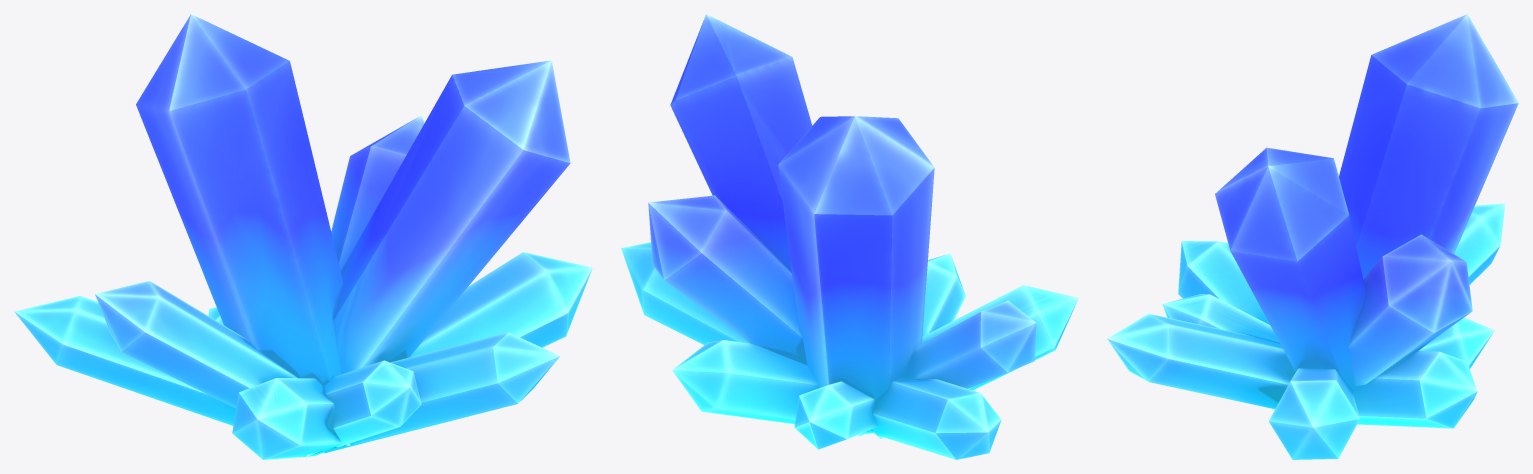
The model's file is crystal.glb.
3 renders of one model, left to right at view 1: azimuth 30°, elevation 25°; view 2: azimuth 150°, elevation 25°; view 3: azimuth 270°, elevation 25°, orthographic. The views are drawn at different scales.
Parts seen in each view (by area): view 1: Circle, Circle.003, Circle.002, Circle.010, Circle.005, Circle.008, Circle.001, Circle.006, Circle.004; view 2: Circle, Circle.003, Circle.004, Circle.007, Circle.008, Circle.002, Circle.010, Circle.009, Circle.001, Circle.006; view 3: Circle, Circle.003, Circle.004, Circle.005, Circle.007, Circle.010, Circle.001, Circle.006, Circle.008, Circle.009.
Boxes of the visible parts, x1,y1,x2,y2 form: Circle: (136,14,343,385); Circle.003: (333,60,570,373); Circle.002: (95,281,297,408); Circle.010: (409,252,592,357); Circle.005: (323,332,559,452); Circle.008: (14,295,235,425); Circle.001: (232,378,341,459); Circle.006: (324,360,421,447); Circle.004: (331,115,424,270); Circle: (778,116,934,403); Circle.003: (670,14,812,272); Circle.004: (648,195,807,365); Circle.007: (672,340,873,433); Circle.008: (872,377,1001,459); Circle.002: (903,300,1036,388); Circle.010: (621,242,750,344); Circle.009: (794,381,877,449); Circle.001: (922,285,1078,390); Circle.006: (858,253,965,436); Circle: (1339,14,1518,279); Circle.003: (1215,147,1366,392); Circle.004: (1348,234,1472,386); Circle.005: (1107,313,1295,409); Circle.007: (1352,351,1477,428); Circle.010: (1268,368,1359,459); Circle.001: (1178,241,1269,324); Circle.006: (1162,294,1279,343); Circle.008: (1454,203,1505,284); Circle.009: (1419,317,1494,368).
Bounding box in the file's own units: 3.13 × 2.48 × 2.43.
2 materials, 2 textured.
